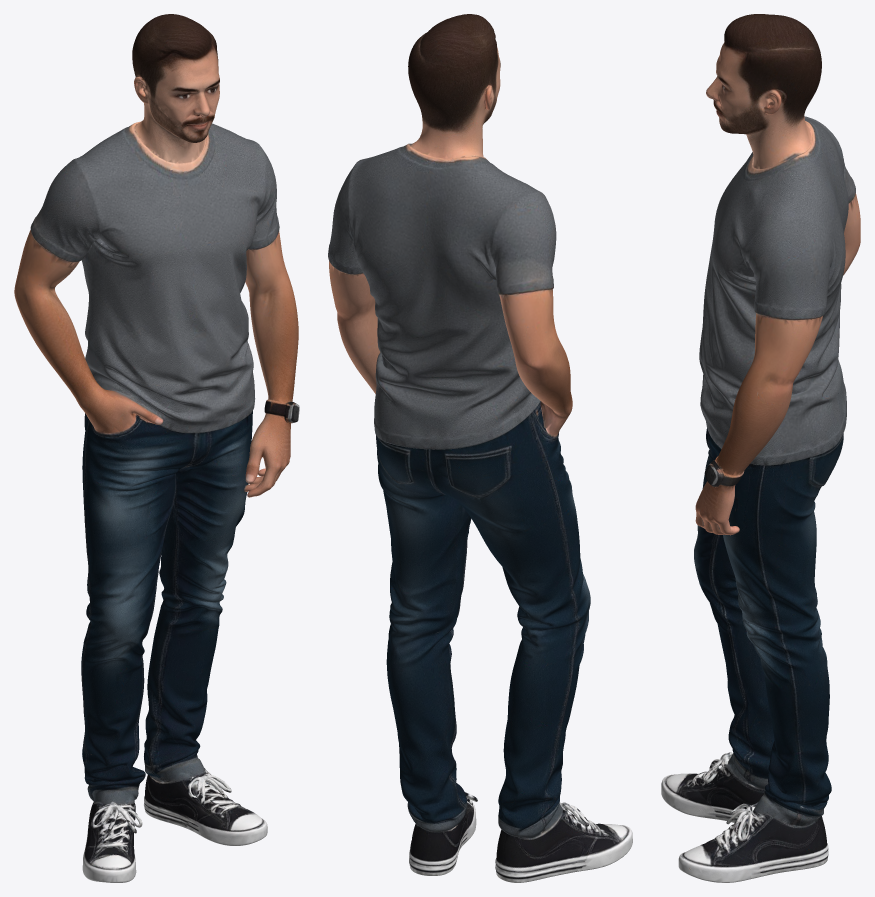
File: mannequin-man.glb
3 renders of one model, left to right at view 1: azimuth 30°, elevation 25°; view 2: azimuth 150°, elevation 25°; view 3: azimuth 270°, elevation 25°, orthographic. The views are drawn at different scales.
Bounding box in the file's own units: 0.5896 × 1.9 × 0.4108.
Materials: 1 (1 with a texture image).
